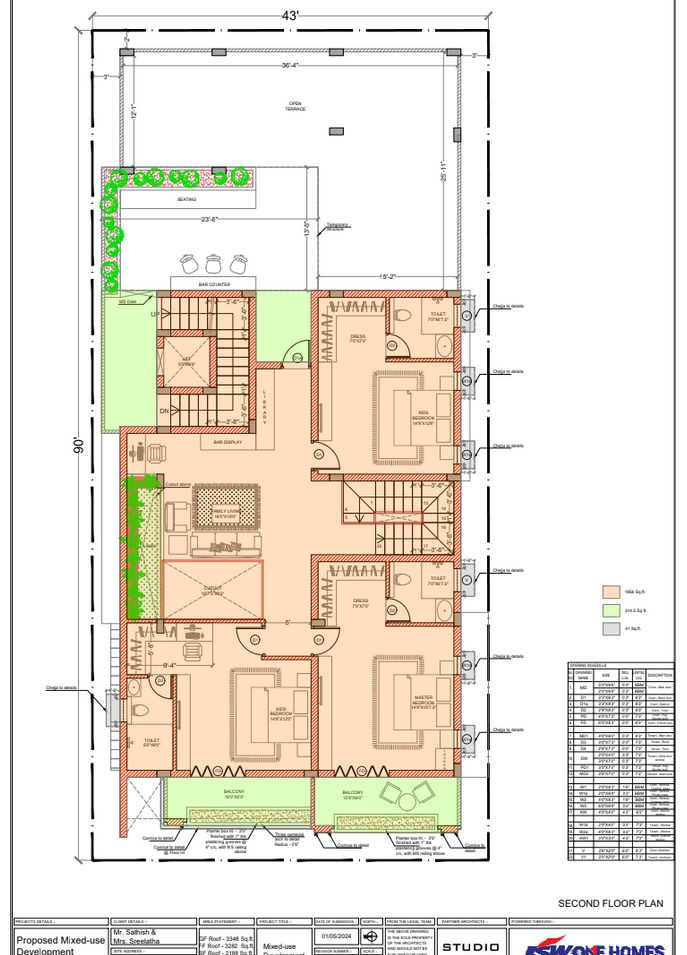door: (312, 626, 342, 658), (312, 439, 341, 472), (236, 625, 264, 656), (385, 597, 413, 625), (281, 338, 308, 366), (386, 332, 412, 360), (146, 675, 173, 701)
